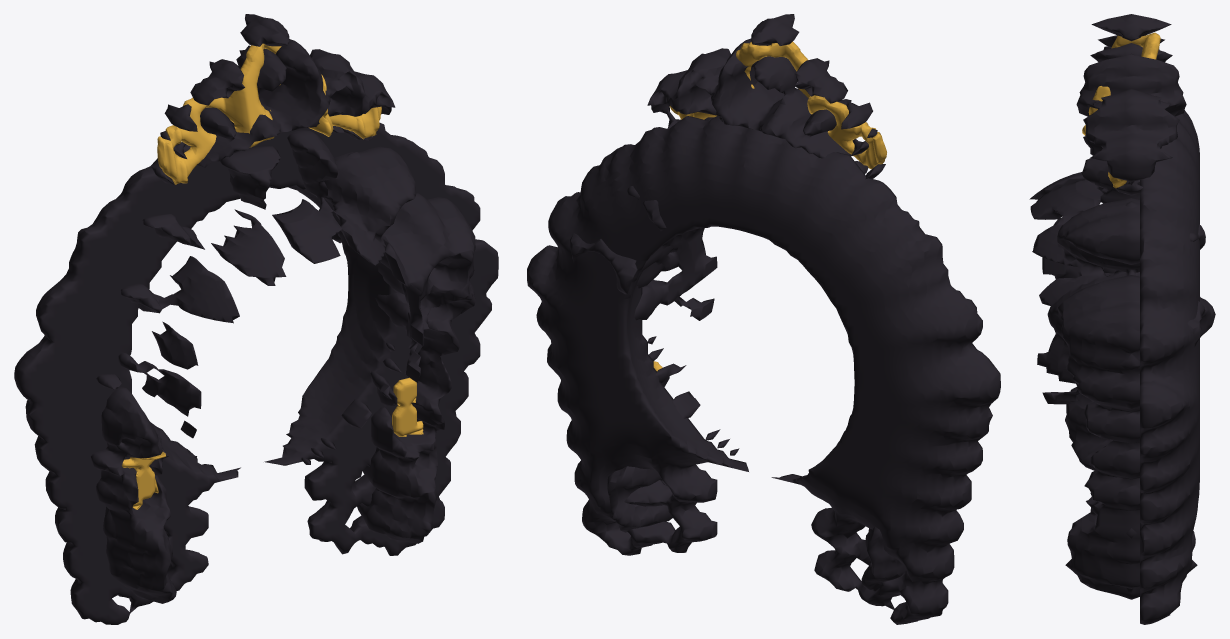
The model's file is hair-curly.glb.
3 renders of one model, left to right at view 1: azimuth 30°, elevation 25°; view 2: azimuth 150°, elevation 25°; view 3: azimuth 270°, elevation 25°, orthographic. The views are drawn at different scales.
Parts seen in each view (by area): view 1: front, back, tiara, earring1, earring0; view 2: back, front, tiara; view 3: front, back, tiara.
Boxes of the visible parts, x1,y1,x2,y2 form: front: (91, 14, 475, 603); back: (14, 122, 498, 624); tiara: (157, 43, 381, 184); earring1: (392, 377, 423, 436); earring0: (121, 452, 165, 509); back: (527, 116, 1000, 624); front: (570, 14, 906, 591); tiara: (669, 41, 886, 169); front: (1029, 14, 1215, 599); back: (1140, 110, 1199, 624); tiara: (1082, 32, 1160, 188).
Bounding box in the file's own units: 1.53 × 1.77 × 0.5449.
